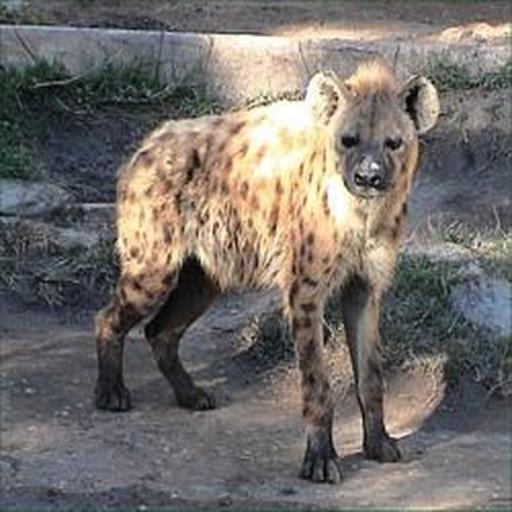Hyena: (83, 74, 446, 493)
